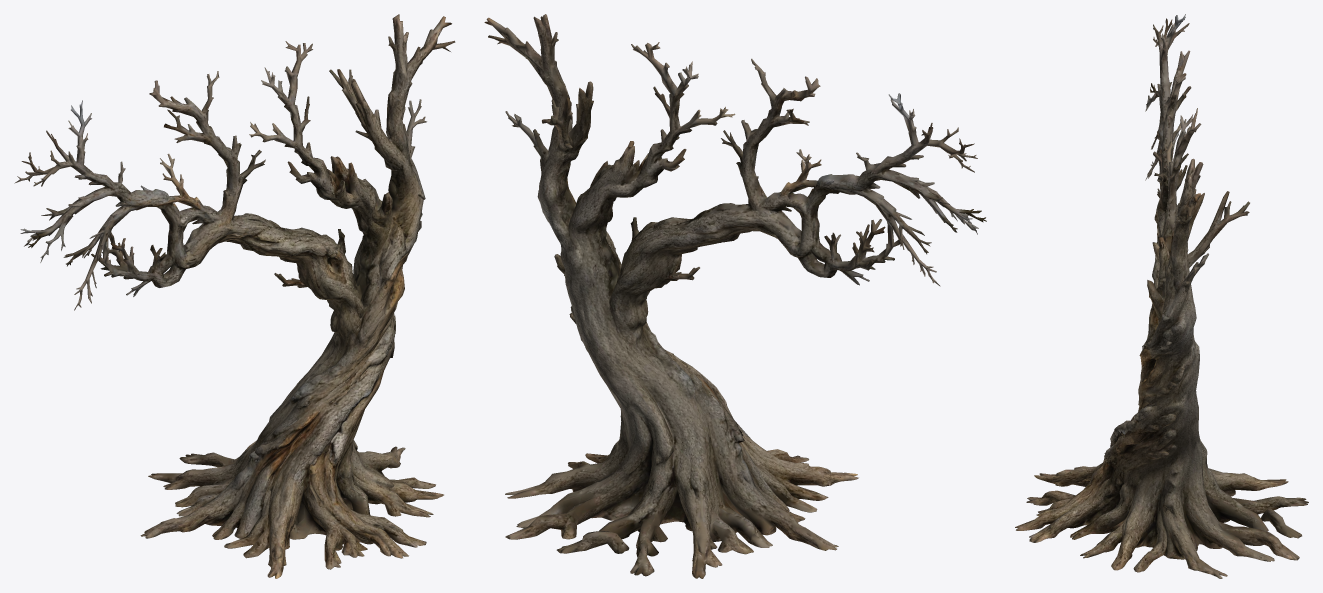
The picture shows the model from 3 angles, left to right: view 1: azimuth 30°, elevation 25°; view 2: azimuth 150°, elevation 25°; view 3: azimuth 270°, elevation 25°; orthographic projection. The views are drawn at different scales.
Visible parts, largest first — view 1: node_0; view 2: node_0; view 3: node_0.
Boxes of the visible parts, bbox=[...] form: node_0: bbox=[14, 14, 455, 578]; node_0: bbox=[484, 14, 986, 578]; node_0: bbox=[1015, 14, 1308, 578].
Size of the model in its own units: 0.8999 by 0.8584 by 0.5549.
1 material, 1 textured.
